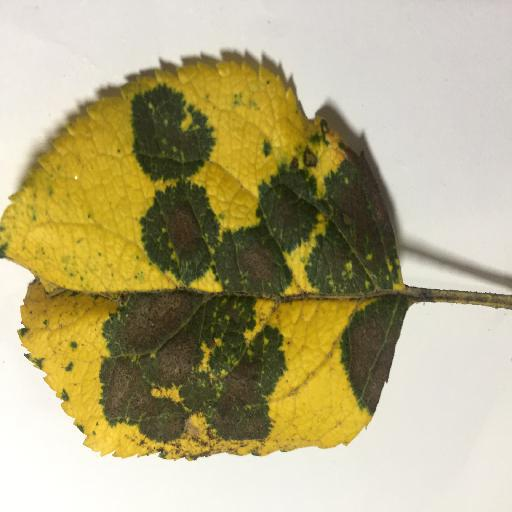Brown_Spot: (89, 301, 297, 447), (329, 183, 393, 289), (340, 305, 391, 401), (149, 205, 203, 269), (218, 237, 279, 289), (268, 198, 308, 235)
